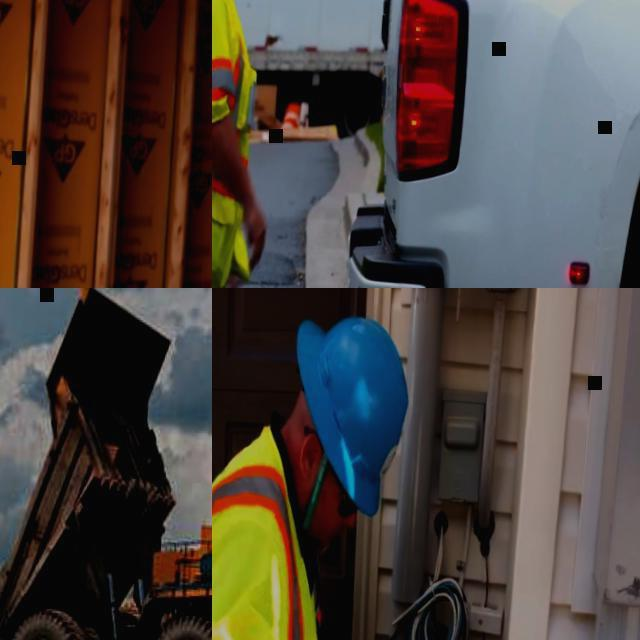helmet: (287, 315, 414, 523)
machinery: (0, 288, 212, 640)
no_mask: (308, 504, 344, 566)
person: (212, 303, 415, 640), (212, 0, 292, 288)
safety_cone: (283, 103, 301, 130)
vehicle: (281, 0, 640, 288)
vest: (212, 414, 344, 640), (212, 0, 274, 288)
